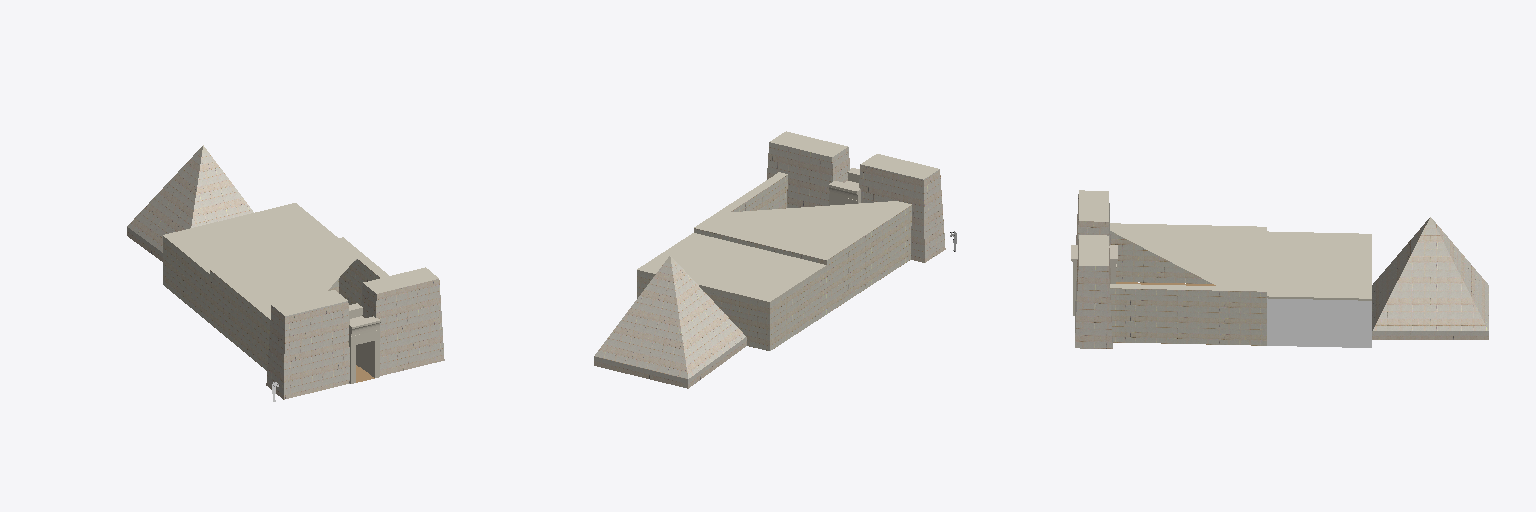
The picture shows the model from 3 angles: view 1: azimuth 30°, elevation 25°; view 2: azimuth 150°, elevation 25°; view 3: azimuth 270°, elevation 25°; orthographic projection.
Visible parts, largest first — view 1: Mesh20 Model, Mesh22 Model, Mesh13 Component_28_1 Model; view 2: Mesh20 Model, Mesh22 Model, Mesh13 Component_28_1 Model; view 3: Mesh20 Model, Mesh22 Model, Mesh13 Component_28_1 Model.
Part boxes in pixels (left/top/right/bottom): Mesh20 Model: left=163, top=203, right=444, bottom=399; Mesh22 Model: left=127, top=145, right=253, bottom=261; Mesh13 Component_28_1 Model: left=349, top=303, right=380, bottom=383; Mesh20 Model: left=637, top=131, right=945, bottom=350; Mesh22 Model: left=594, top=256, right=746, bottom=388; Mesh13 Component_28_1 Model: left=829, top=168, right=860, bottom=205; Mesh20 Model: left=1075, top=190, right=1371, bottom=348; Mesh22 Model: left=1372, top=217, right=1488, bottom=339; Mesh13 Component_28_1 Model: left=1071, top=245, right=1117, bottom=315.
Bounding box in the file's own units: 13.57 × 7.45 × 27.96.
12 materials, 4 textured.